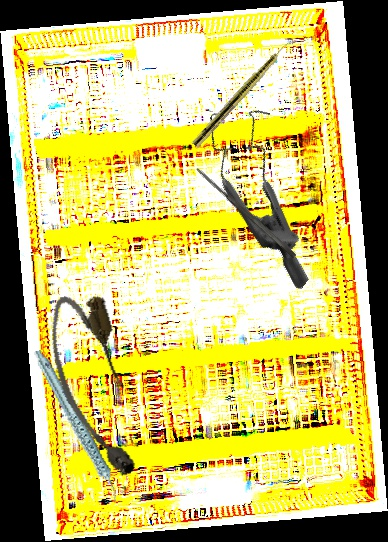Cannula: (39, 287, 149, 487)
Handpiece: (32, 340, 120, 513), (191, 33, 298, 150)
Spatula Surgical: (194, 165, 298, 260)
Speculum: (158, 86, 375, 291)
